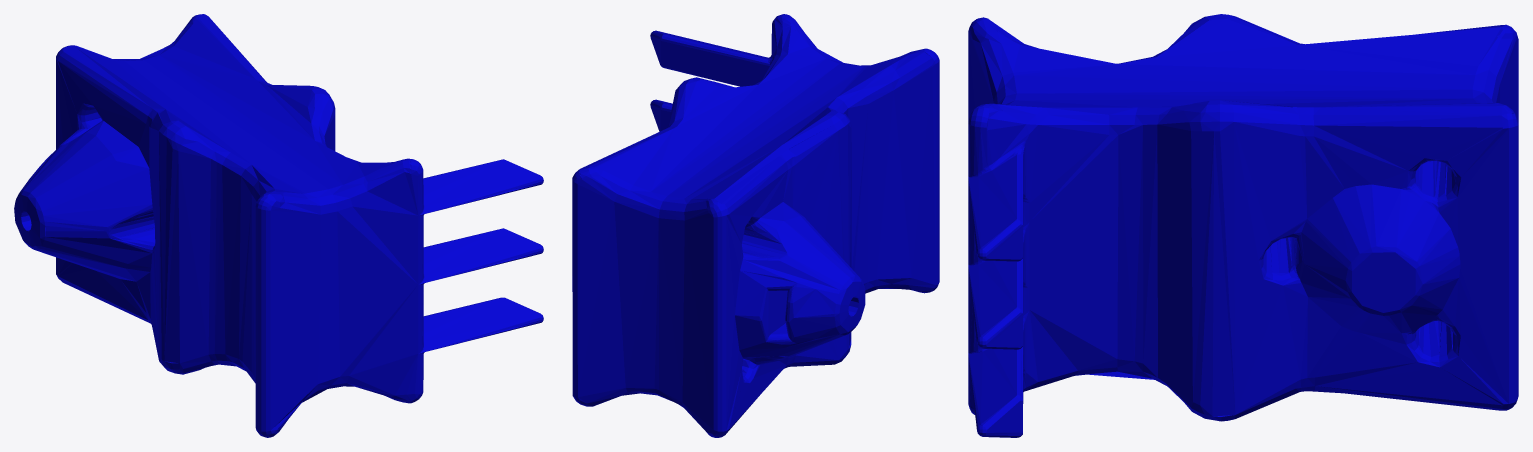
Rendered from moveable.dae.
3 views of the same model, side by side, from view 1: azimuth 30°, elevation 25°; view 2: azimuth 150°, elevation 25°; view 3: azimuth 270°, elevation 25° (orthographic). The views are drawn at different scales.
Parts seen in each view (by area): view 1: SimGrabberMoving; view 2: SimGrabberMoving; view 3: SimGrabberMoving.
Part boxes in pixels (left/top/right/bottom): SimGrabberMoving: left=14, top=14, right=543, bottom=437; SimGrabberMoving: left=572, top=14, right=939, bottom=437; SimGrabberMoving: left=968, top=14, right=1518, bottom=437.
Bounding box in the file's own units: 0.097 × 0.1007 × 0.064.
